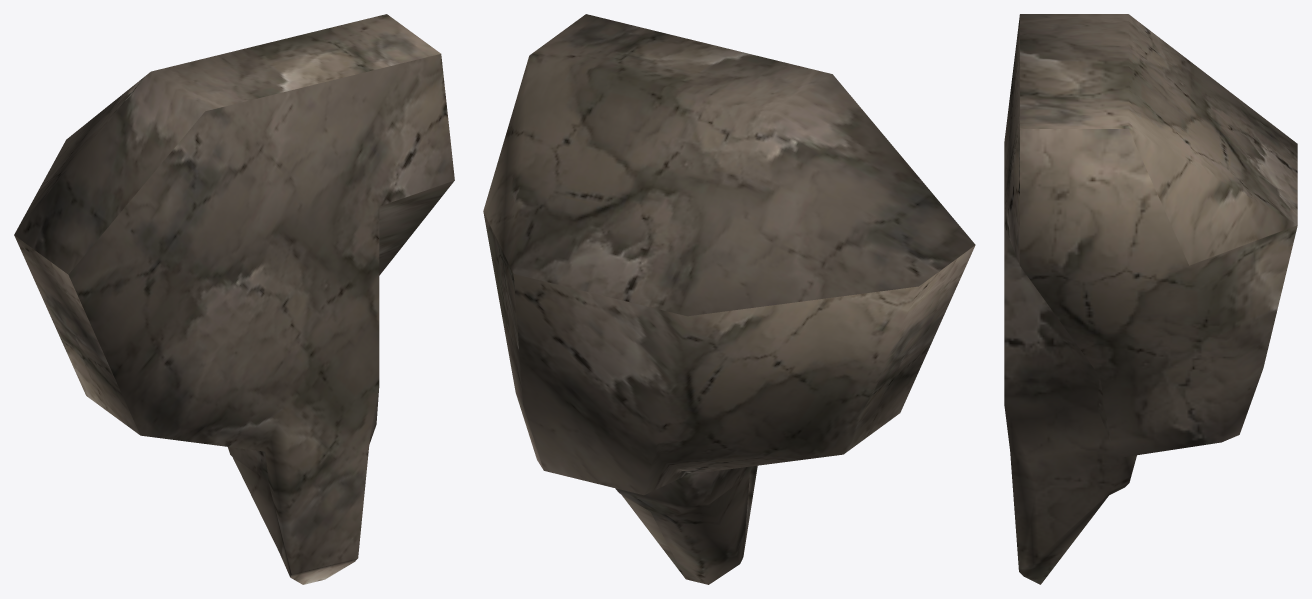
Rendered from Rock 2.fbx.
3 views of the same model, side by side, from view 1: azimuth 30°, elevation 25°; view 2: azimuth 150°, elevation 25°; view 3: azimuth 270°, elevation 25° (orthographic). The views are drawn at different scales.
Visible parts, largest first — view 1: Rock 2; view 2: Rock 2; view 3: Rock 2.
Part boxes in pixels (x1,y1,x2,y2): Rock 2: (14, 14, 454, 584); Rock 2: (483, 14, 975, 584); Rock 2: (1004, 14, 1297, 584).
Bounding box in the file's own units: 156 × 196 × 103.
